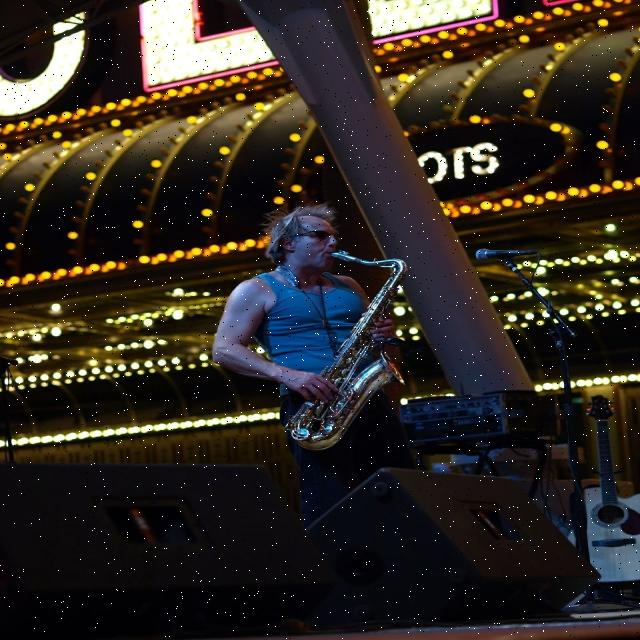saxophone: (284, 252, 414, 458)
